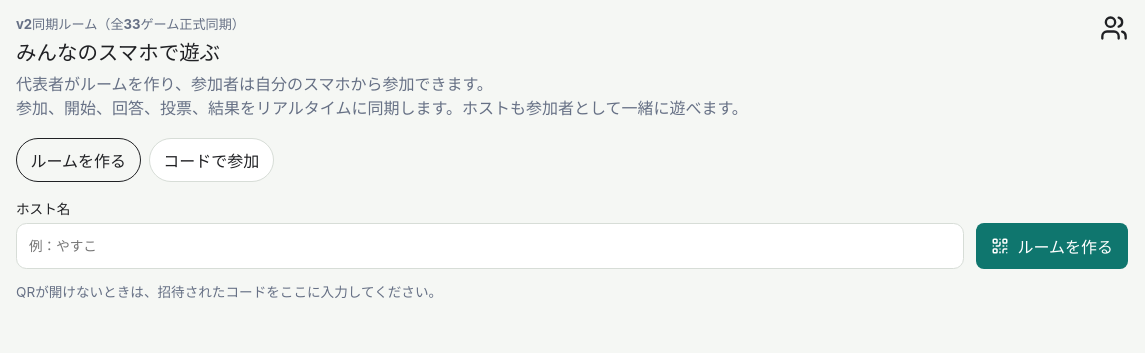
it: SharedRoomLobby › shows closed-room rejection for manual code entry
Click the button "コードで参加" at (211, 160), box [149,138,274,182]
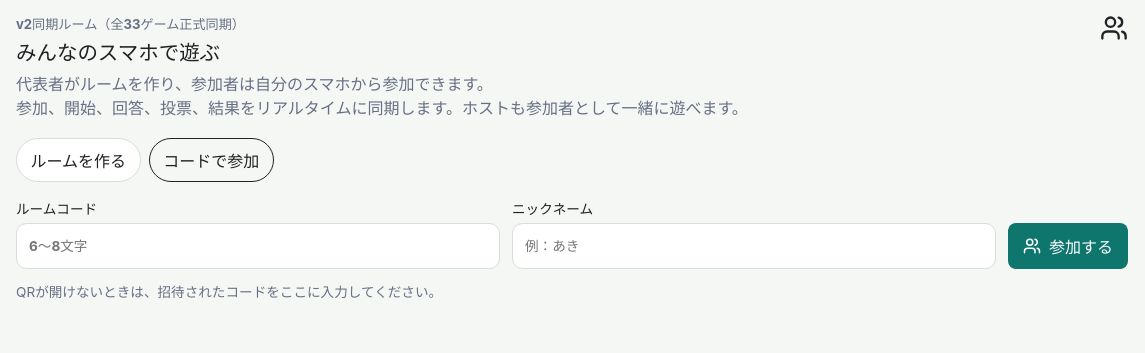
Type "AB23CD" into the field labelled "ルームコード" at (258, 246), box [16,223,500,269]
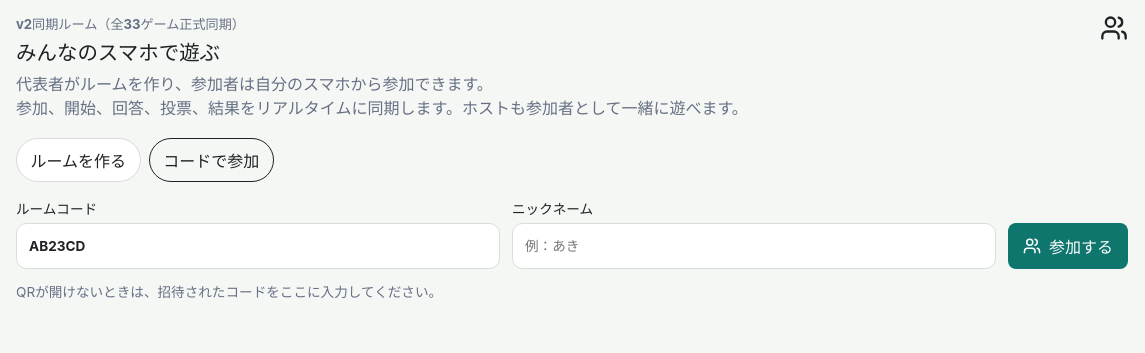
Type "Alice" into the field labelled "ニックネーム" at (754, 246), box [512,223,996,269]
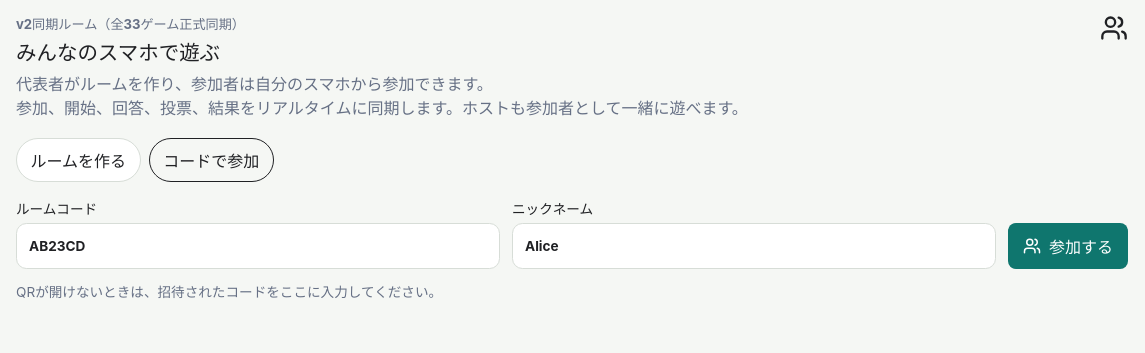
Click the button "参加する" at (1068, 246), box [1008,223,1128,269]
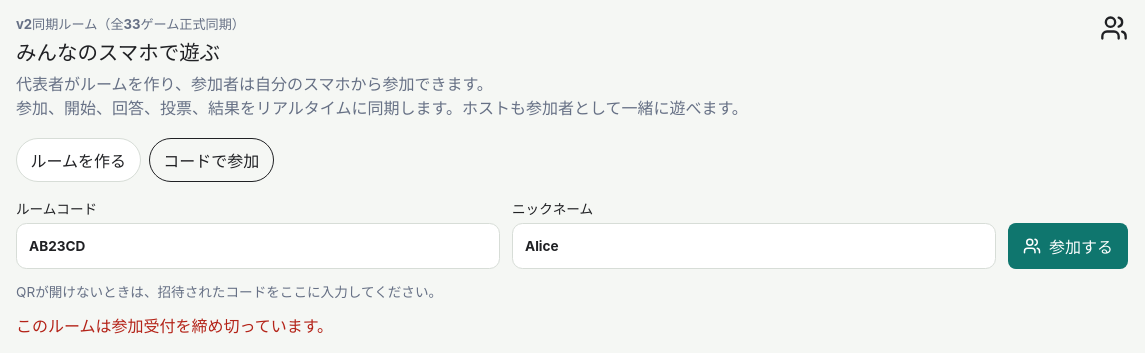
Expected: the message shows "参加受付を締め切っています", [16,316,333,336]
